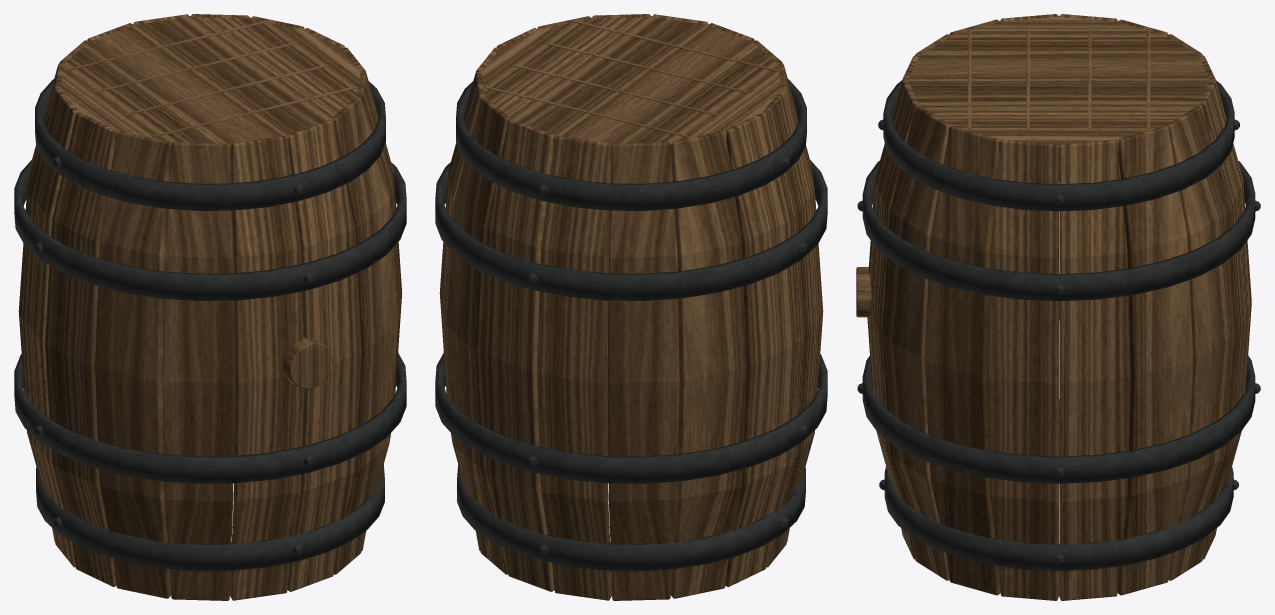
File: tavern-barrel.glb
3 renders of one model, left to right at view 1: azimuth 30°, elevation 25°; view 2: azimuth 150°, elevation 25°; view 3: azimuth 270°, elevation 25°, orthographic.
Parts seen in each view (by area): view 1: tavern-barrel - Tavern honey oak joinery runtime PBR, tavern-barrel - Tavern forged black iron runtime PBR, tavern-barrel - Tavern worn oak floor runtime PBR, tavern-barrel - Tavern dark oak end grain runtime PBR; view 2: tavern-barrel - Tavern honey oak joinery runtime PBR, tavern-barrel - Tavern forged black iron runtime PBR, tavern-barrel - Tavern worn oak floor runtime PBR, tavern-barrel - Tavern dark oak end grain runtime PBR; view 3: tavern-barrel - Tavern honey oak joinery runtime PBR, tavern-barrel - Tavern forged black iron runtime PBR, tavern-barrel - Tavern worn oak floor runtime PBR, tavern-barrel - Tavern dark oak end grain runtime PBR.
Boxes of the visible parts, left/top/right/bottom form: tavern-barrel - Tavern honey oak joinery runtime PBR: left=18, top=14, right=402, bottom=600; tavern-barrel - Tavern forged black iron runtime PBR: left=14, top=79, right=406, bottom=570; tavern-barrel - Tavern worn oak floor runtime PBR: left=55, top=16, right=365, bottom=157; tavern-barrel - Tavern dark oak end grain runtime PBR: left=63, top=20, right=357, bottom=388; tavern-barrel - Tavern honey oak joinery runtime PBR: left=439, top=14, right=823, bottom=600; tavern-barrel - Tavern forged black iron runtime PBR: left=435, top=79, right=827, bottom=570; tavern-barrel - Tavern worn oak floor runtime PBR: left=476, top=16, right=786, bottom=157; tavern-barrel - Tavern dark oak end grain runtime PBR: left=484, top=20, right=778, bottom=137; tavern-barrel - Tavern honey oak joinery runtime PBR: left=867, top=14, right=1251, bottom=600; tavern-barrel - Tavern forged black iron runtime PBR: left=857, top=80, right=1260, bottom=570; tavern-barrel - Tavern worn oak floor runtime PBR: left=905, top=15, right=1213, bottom=157; tavern-barrel - Tavern dark oak end grain runtime PBR: left=856, top=29, right=1150, bottom=317.
Size of the model in its own units: 0.7217 by 0.9005 by 0.7229.
4 materials, 4 textured.
